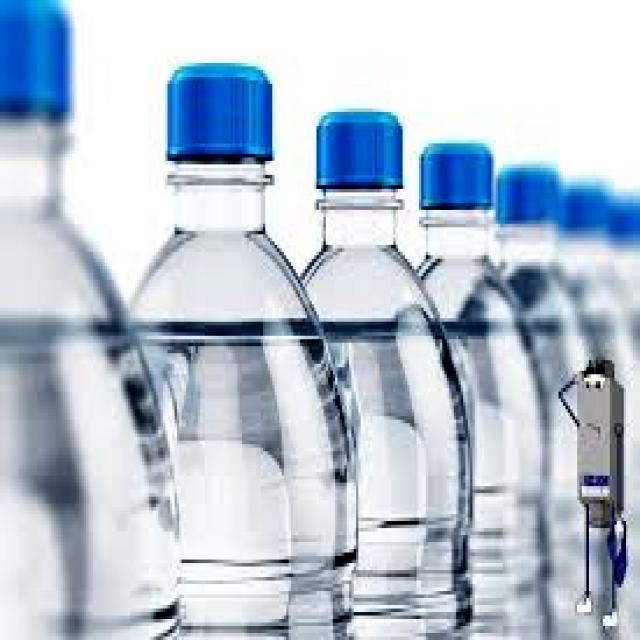Plastic: (133, 55, 358, 640), (303, 107, 475, 638), (416, 130, 556, 638)
